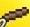platform: (0, 1, 30, 27)
